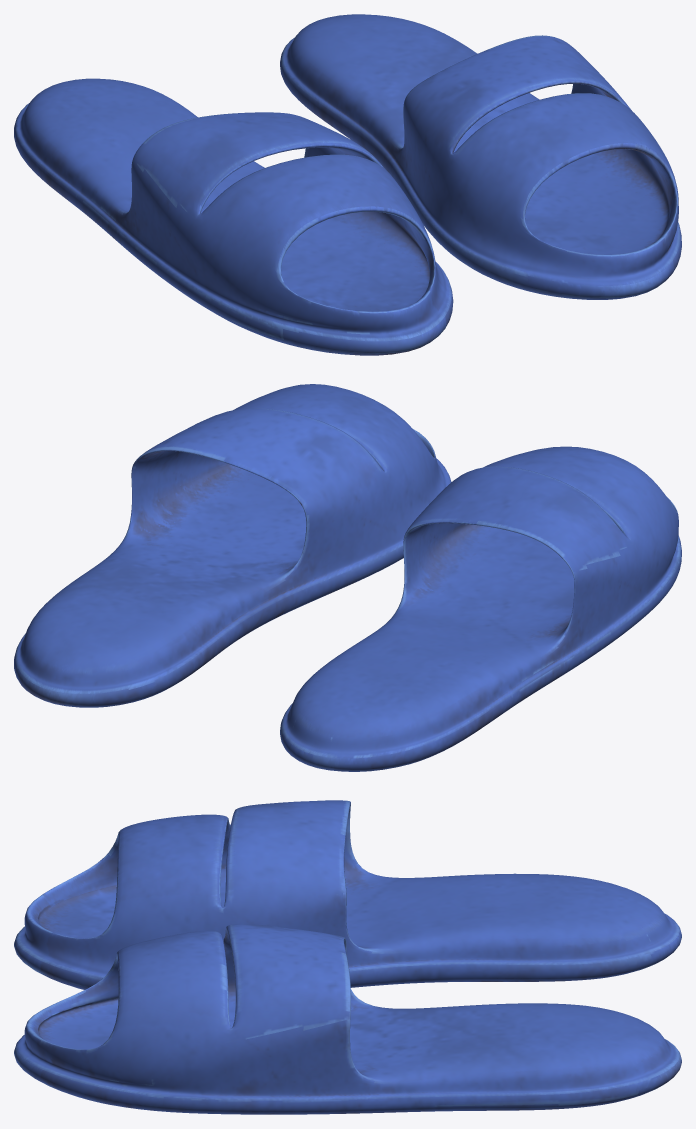
Rendered from スリッパ.fbx.
3 views of the same model, one above another, from view 1: azimuth 30°, elevation 25°; view 2: azimuth 150°, elevation 25°; view 3: azimuth 270°, elevation 25° (orthographic). The views are drawn at different scales.
Visible parts, largest first — view 1: slipper; view 2: slipper; view 3: slipper.
Part boxes in pixels (bbox=[...]): slipper: bbox=[14, 14, 681, 355]; slipper: bbox=[14, 384, 681, 771]; slipper: bbox=[14, 800, 681, 1114].
Size of the model in its own units: 20.29 by 6.01 by 26.48.
Materials: 1 (1 with a texture image).
